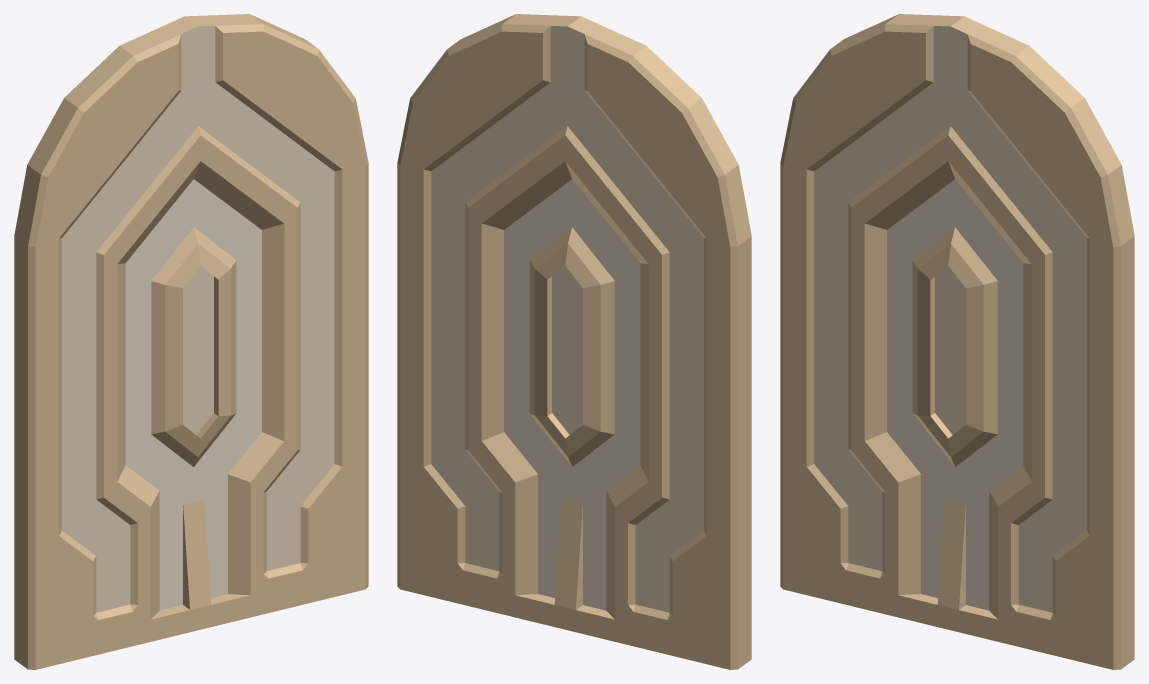
The picture shows the model from 3 angles, left to right: view 1: azimuth 30°, elevation 25°; view 2: azimuth 150°, elevation 25°; view 3: azimuth 330°, elevation 25°; orthographic projection.
Parts seen in each view (by area): view 1: object2.009; view 2: object2.009; view 3: object2.009.
Boxes of the visible parts, x1=… form: object2.009: x1=14, y1=14, x2=368, y2=669; object2.009: x1=397, y1=14, x2=751, y2=669; object2.009: x1=780, y1=14, x2=1134, y2=669.
Bounding box in the file's own units: 1.6 × 2.7 × 0.15.
